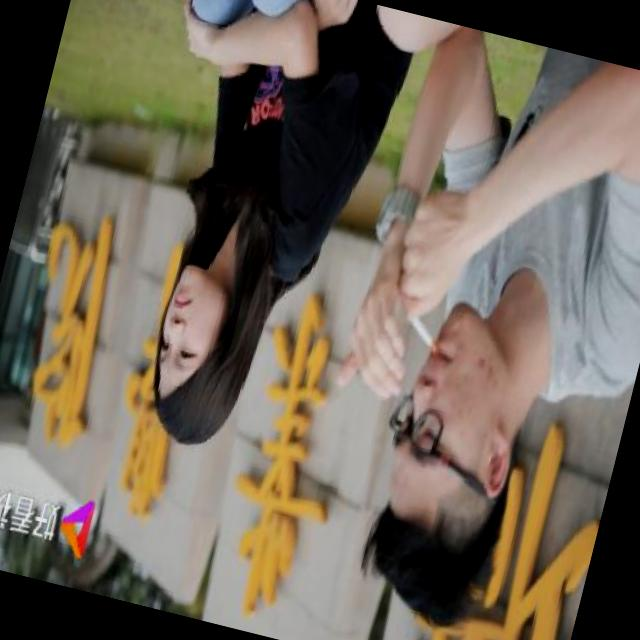cigarette: (388, 294, 455, 371)
